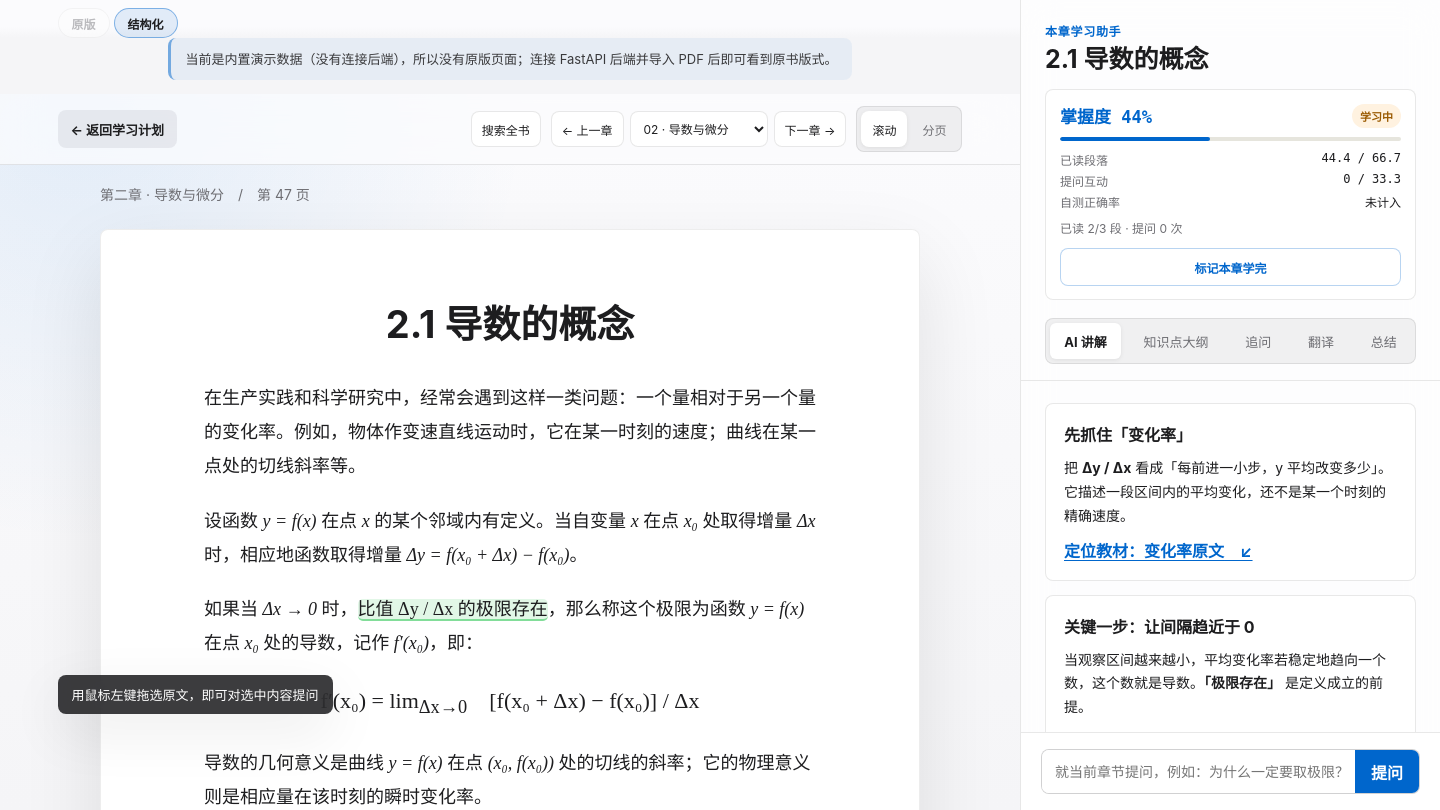
Test: 划词气泡与追问线程 › 右栏直接提问同样落在追问线程里，标题取首个问题
Check: the element with test id "mastery-panel" is shown, box x1=1045 y1=89 x2=1416 y2=300
In the field named "提问输入框": [1198, 772] box x1=1042 y1=750 x2=1355 y2=793, type "为什么一定要取极限？"
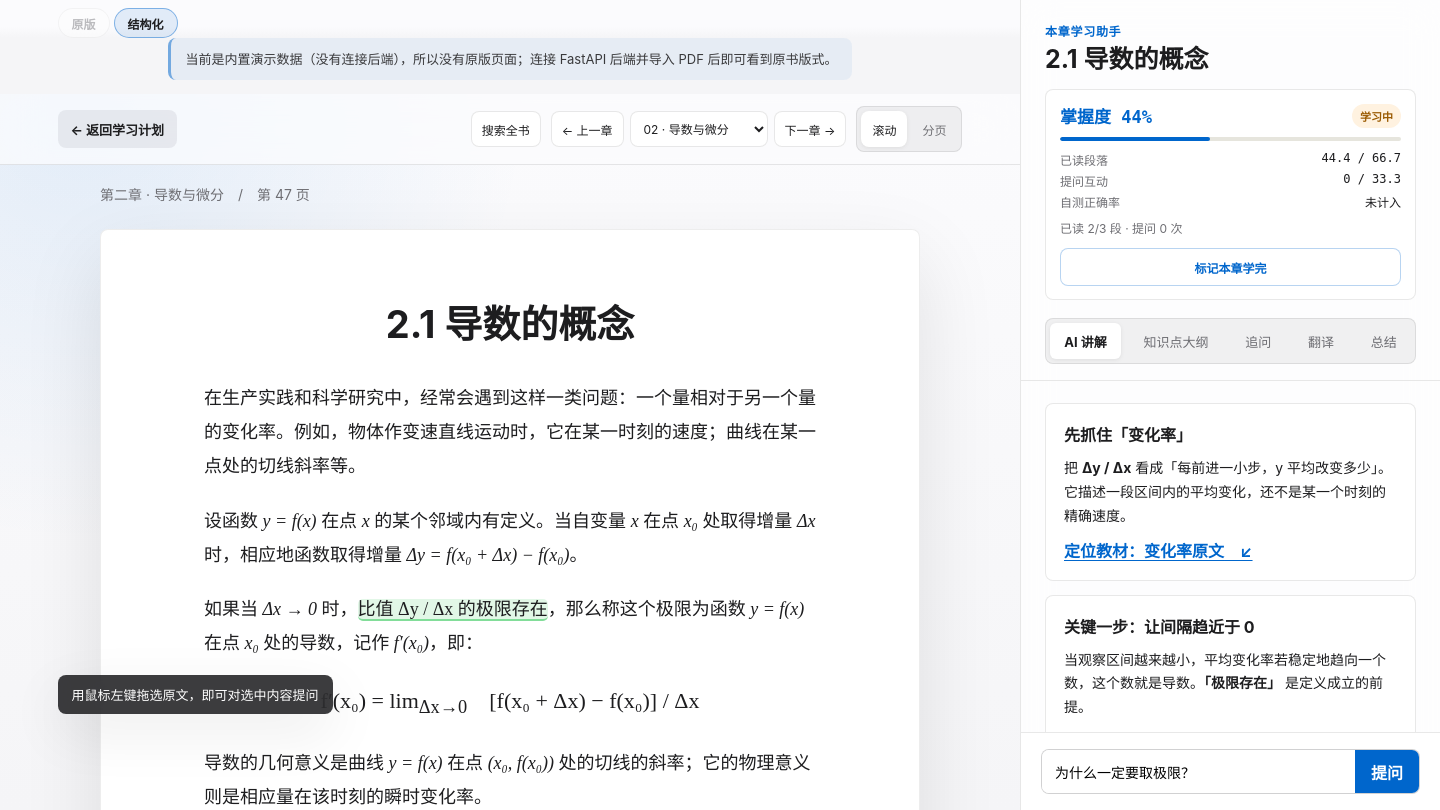
Click the button "提问": [1387, 772] box x1=1355 y1=750 x2=1419 y2=793
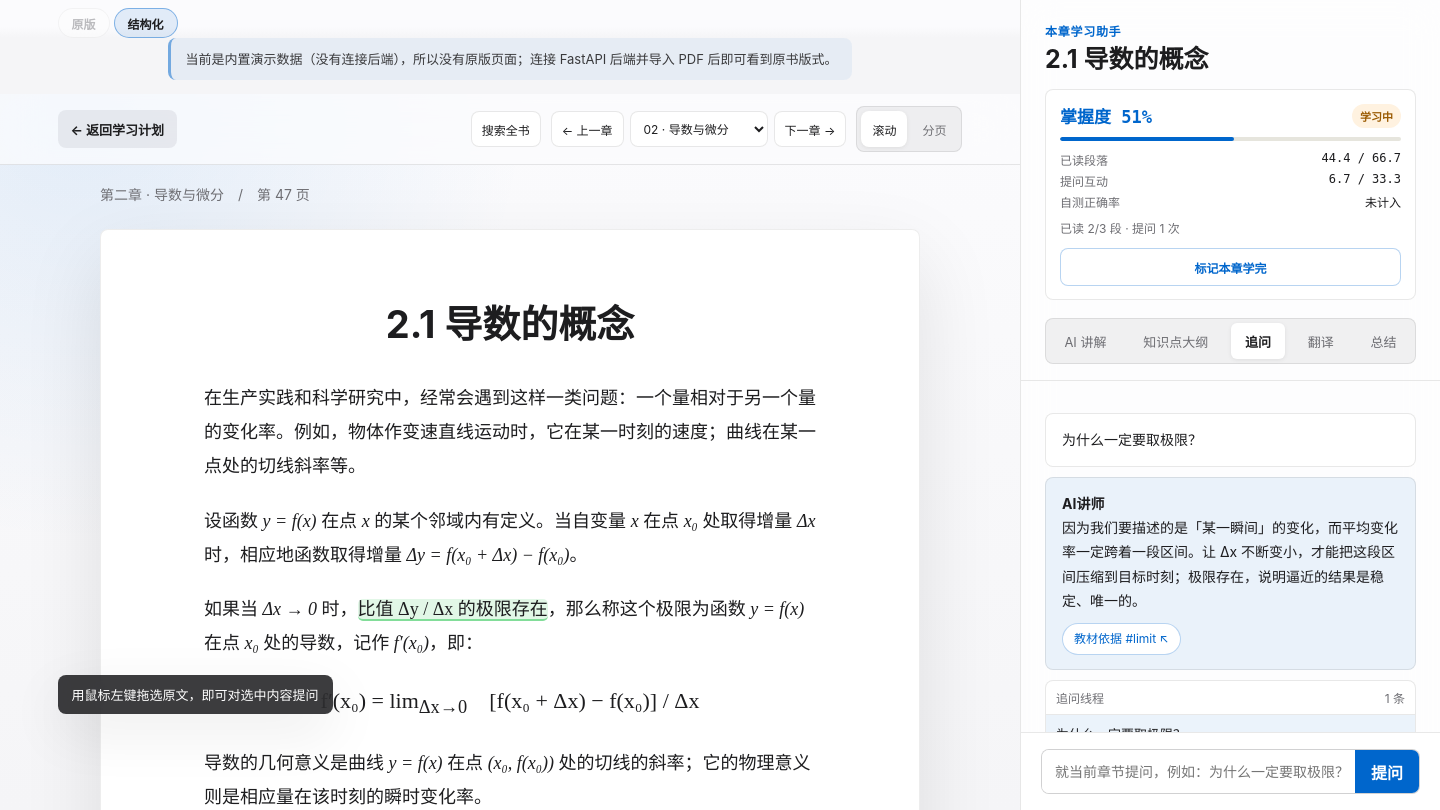
Check: the element with test id "answer" shows "Δx", box x1=1062 y1=519 x2=1398 y2=608
